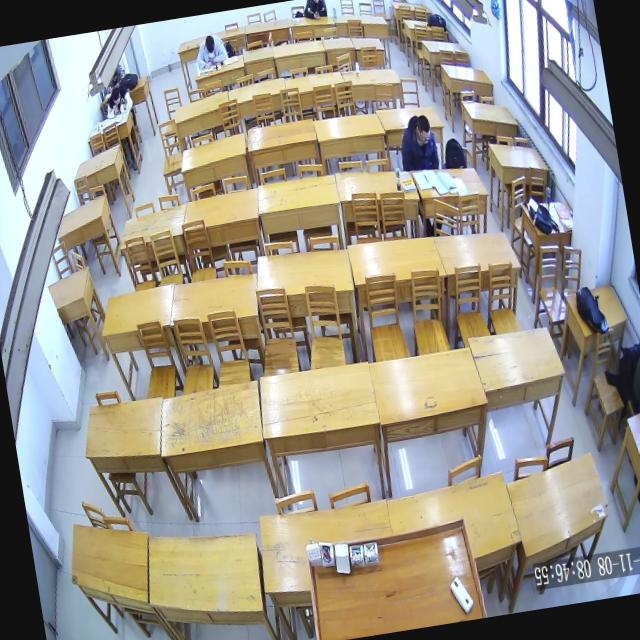bow: (192, 31, 230, 70), (102, 84, 136, 120)
down: (414, 114, 433, 145), (204, 34, 217, 54), (110, 86, 122, 105)
sit: (394, 112, 440, 175)
